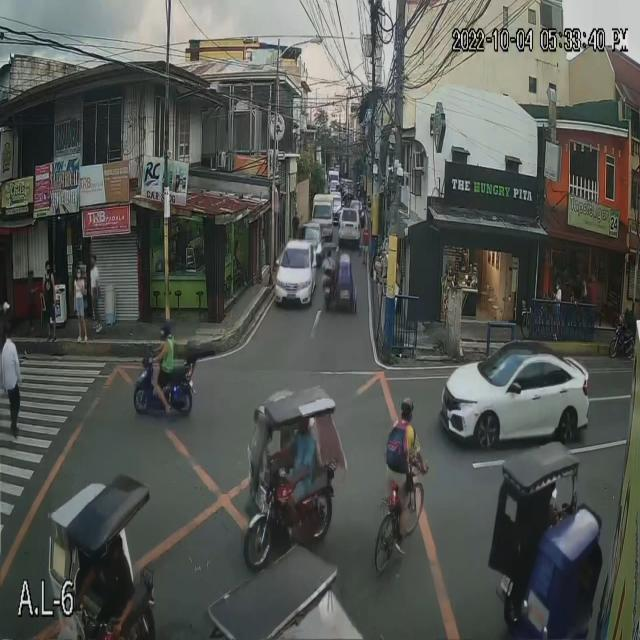Full-Faced: (157, 314, 172, 346)
